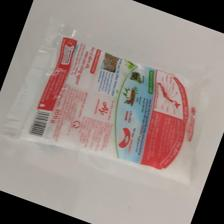Ajinomoto: (21, 35, 198, 194)
